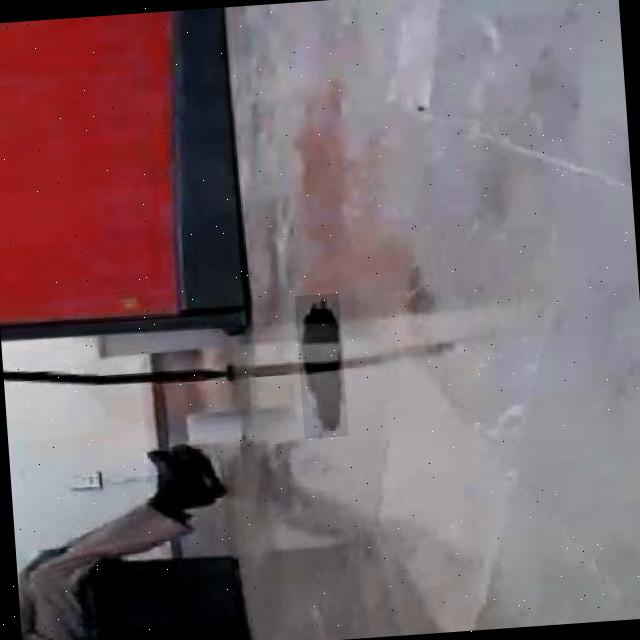spillage: (299, 294, 341, 435)
